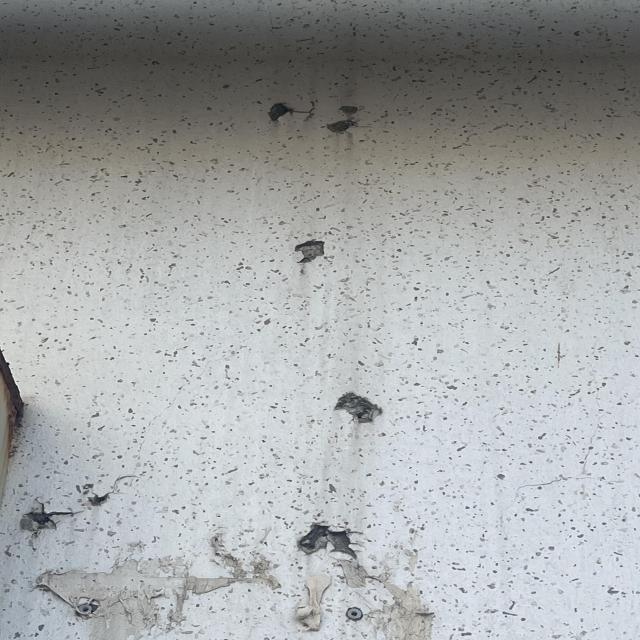spalling: (2, 470, 136, 539), (310, 376, 403, 441), (264, 96, 369, 138), (276, 526, 362, 563), (279, 228, 337, 274)
